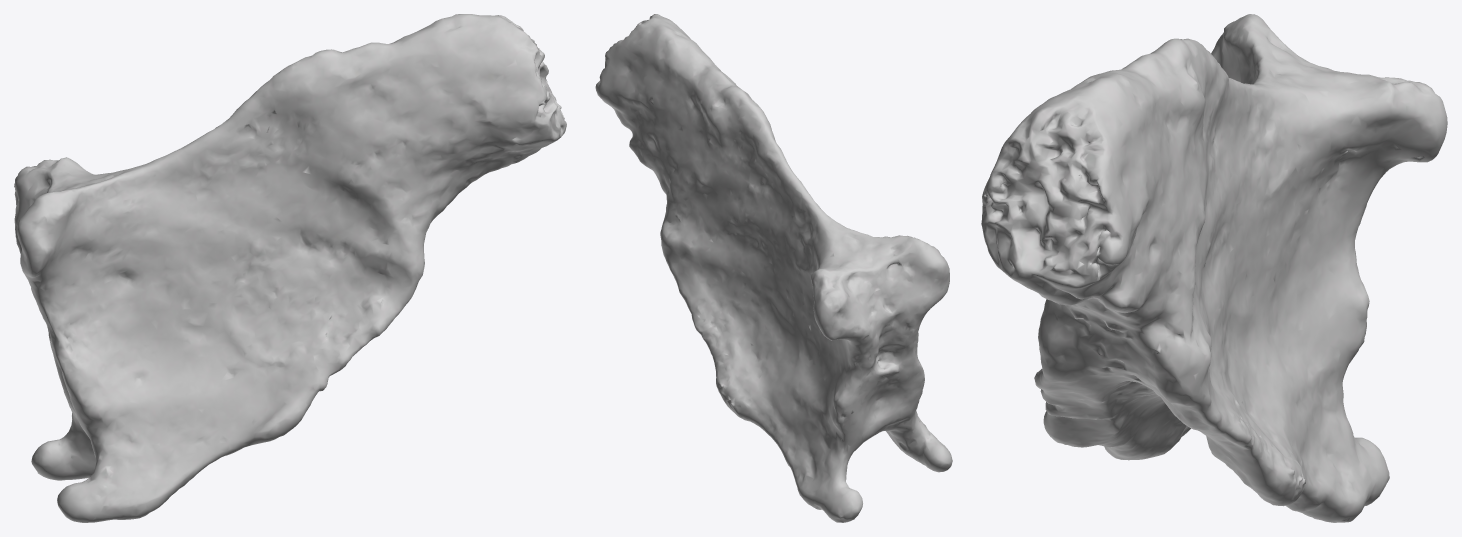
3 views of the same model, side by side, from view 1: azimuth 30°, elevation 25°; view 2: azimuth 150°, elevation 25°; view 3: azimuth 270°, elevation 25° (orthographic). The views are drawn at different scales.
Parts seen in each view (by area): view 1: Pygostyl_Huhn.001; view 2: Pygostyl_Huhn.001; view 3: Pygostyl_Huhn.001.
Boxes of the visible parts, x1,y1,x2,y2 form: Pygostyl_Huhn.001: [14, 14, 566, 522]; Pygostyl_Huhn.001: [595, 14, 952, 522]; Pygostyl_Huhn.001: [981, 14, 1447, 522].
Size of the model in its own units: 1688 by 1552 by 1043.
Materials: 1 (1 with a texture image).
